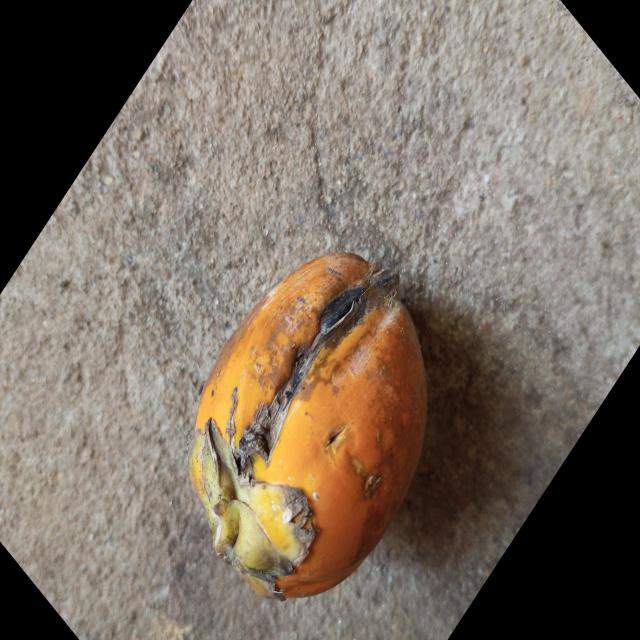damaged: (189, 253, 427, 600)
